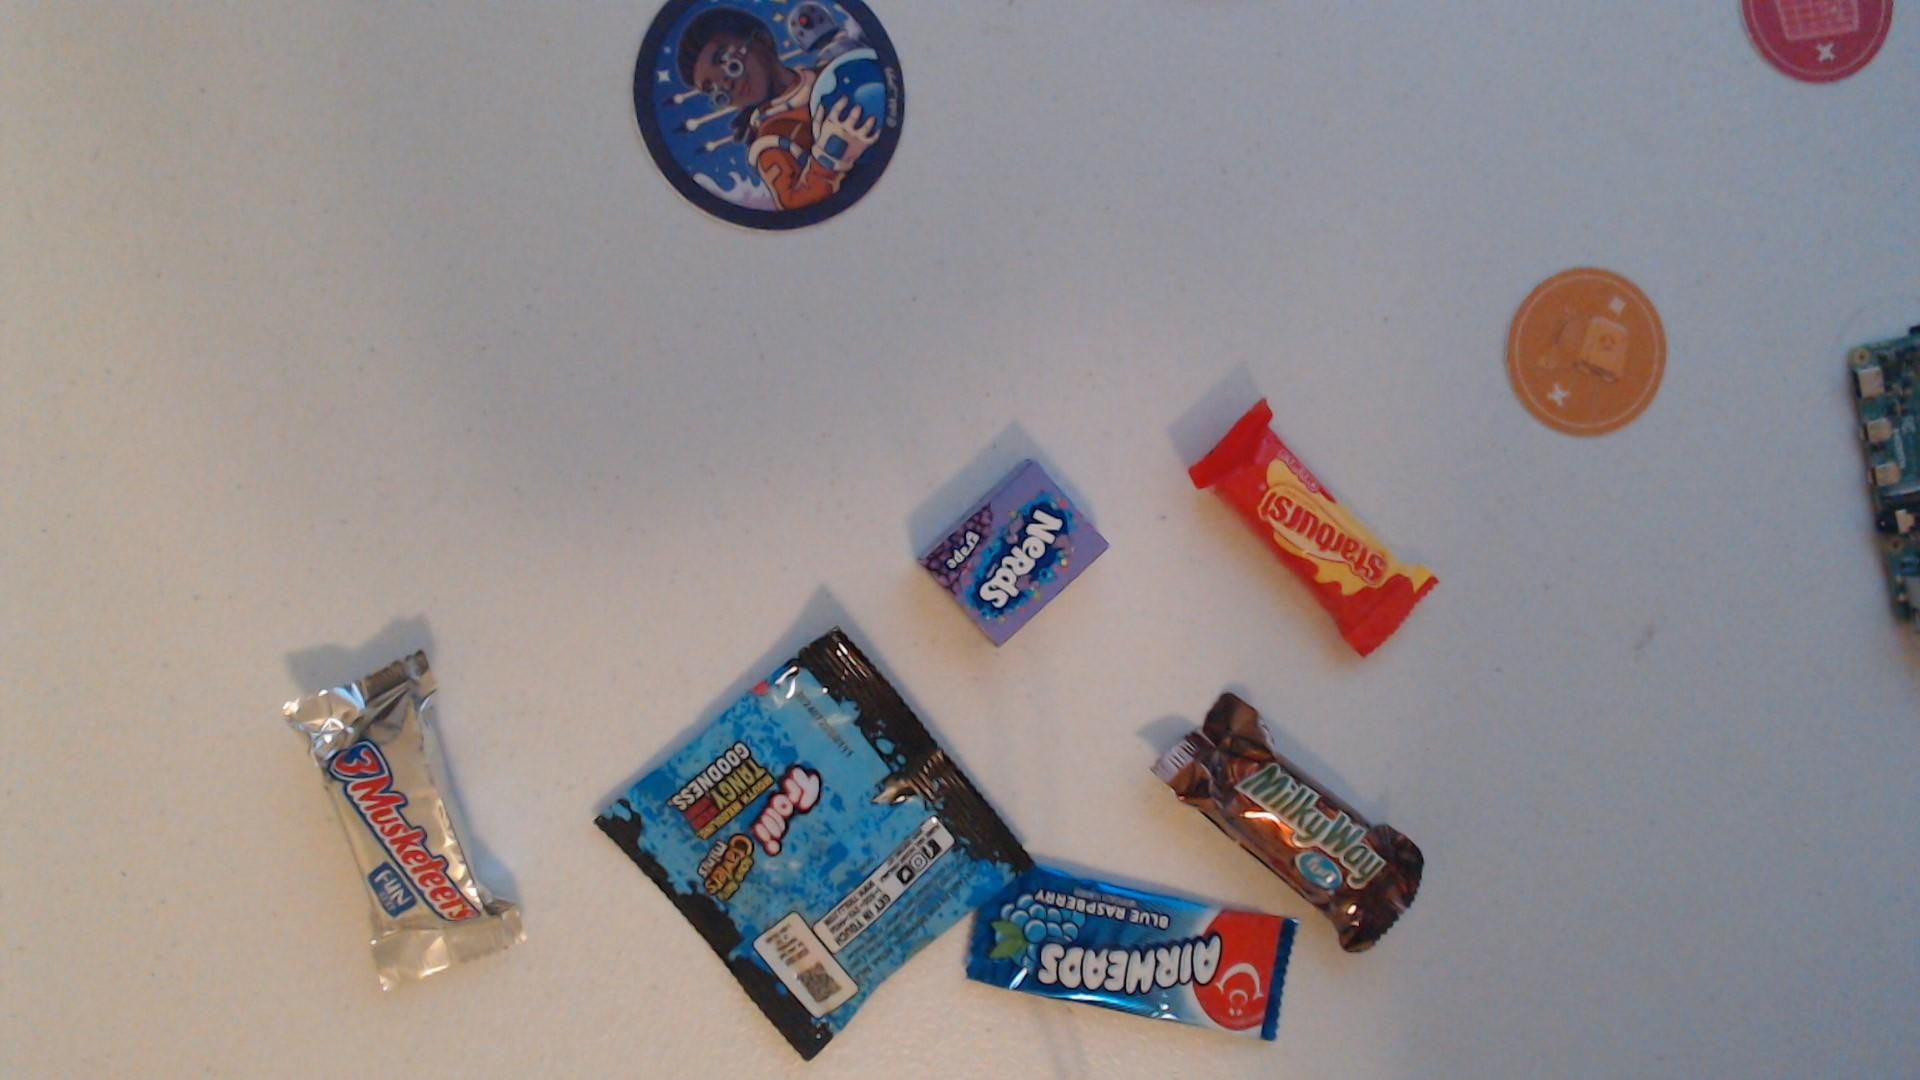Trolli: (593, 622, 1022, 1062)
airheads: (965, 860, 1288, 1042)
milky_way: (1162, 691, 1428, 949)
musketeers: (285, 646, 527, 988)
nerds: (916, 455, 1108, 646)
starburst: (1184, 398, 1436, 659)
